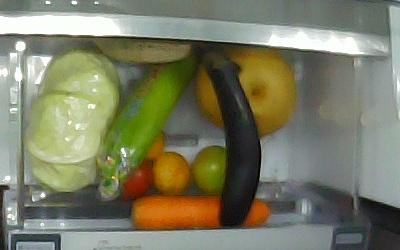cabbage: (26, 48, 120, 192)
carrot: (131, 195, 271, 230)
eggplant: (197, 48, 262, 229)
melon: (91, 37, 192, 66)
pear: (195, 45, 297, 137)
prune: (111, 157, 152, 202)
tangerine: (152, 151, 189, 196), (143, 130, 166, 161)
tomato: (192, 145, 228, 195)
zucchini: (97, 52, 195, 199)
